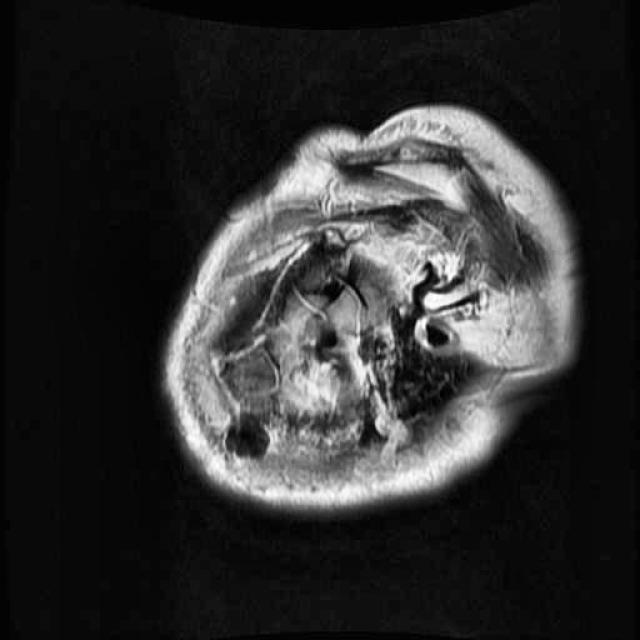Tumor: (272, 290, 358, 421)
